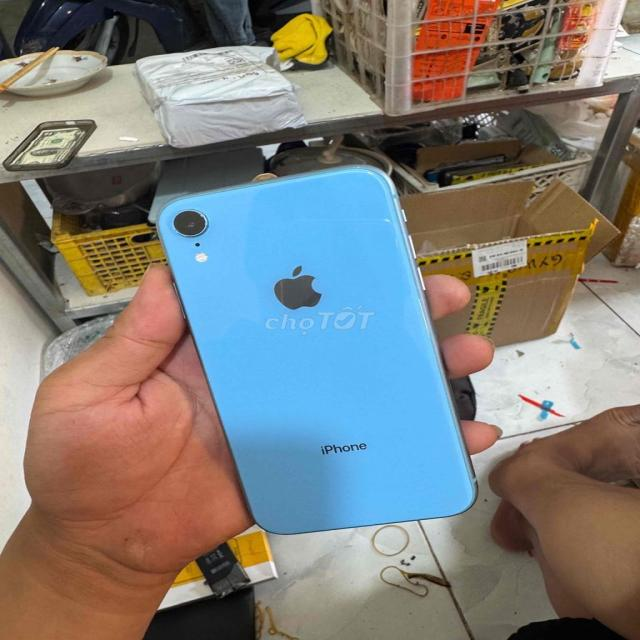gen_x_xs: (140, 159, 505, 548)
scratch: (364, 206, 408, 238), (186, 199, 218, 228), (340, 153, 375, 179)
